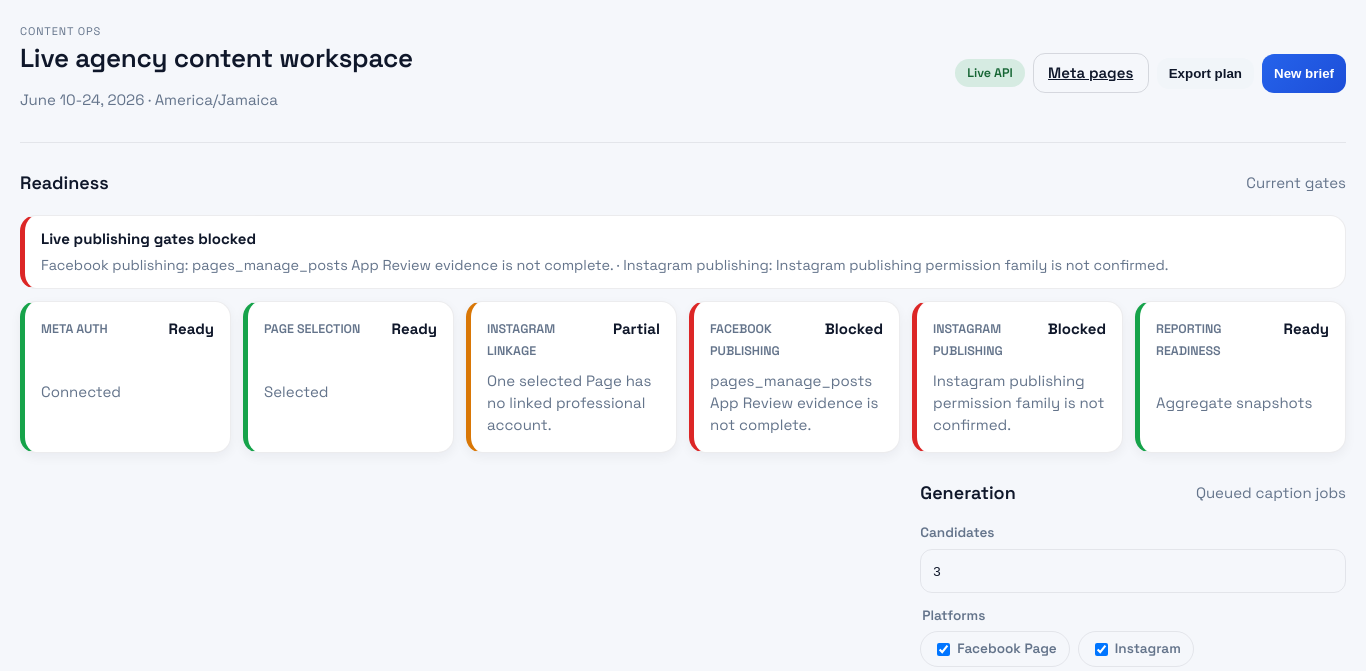
Test: ContentOpsPage › downloads a live workspace content plan export
The image size is (1366, 671).
expect the heading "Live agency content workspace" is shown: met, box 20,42 -> 413,74
Click the button "Export plan".
click(1205, 73)  # box 1157,58 -> 1254,88
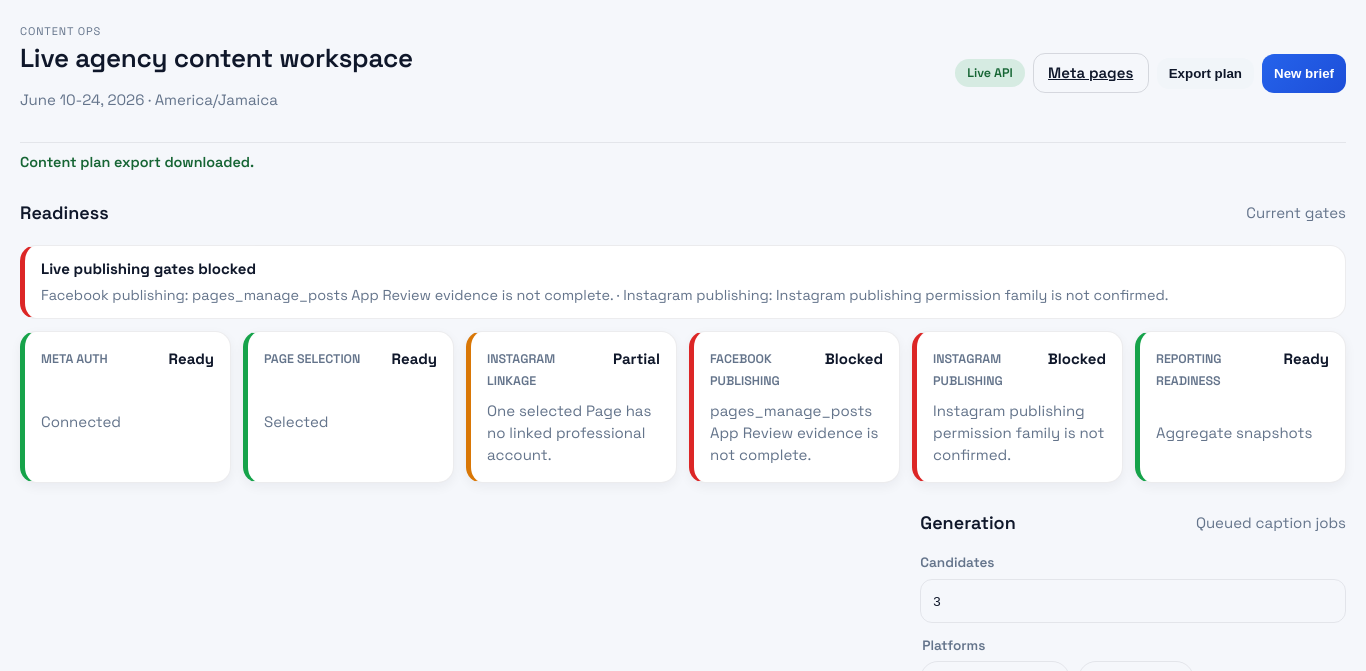
expect the text "Content plan export downloaded." is shown: met, box 20,153 -> 254,171
